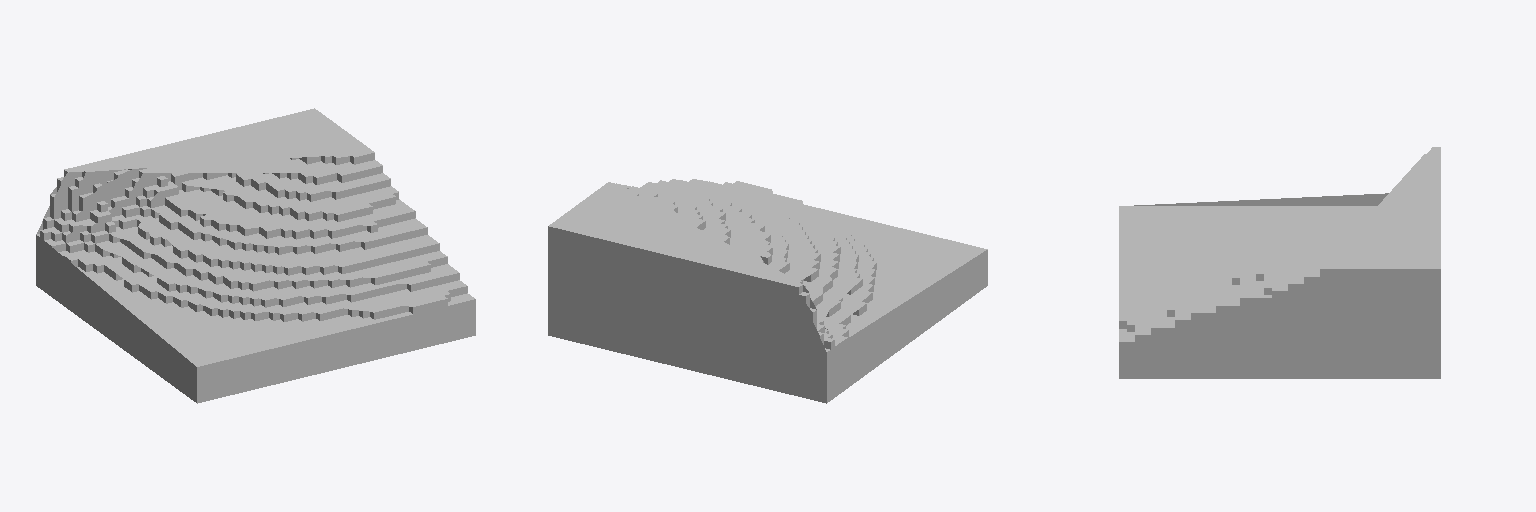
The model's file is ElevCurvePE.obj.
3 renders of one model, left to right at view 1: azimuth 30°, elevation 25°; view 2: azimuth 150°, elevation 25°; view 3: azimuth 270°, elevation 25°, orthographic.
Parts seen in each view (by area): view 1: Untitled; view 2: Untitled; view 3: Untitled.
Part boxes in pixels (bbox=[...]): Untitled: bbox=[36, 108, 475, 403]; Untitled: bbox=[548, 179, 987, 403]; Untitled: bbox=[1119, 147, 1440, 378].
Bounding box in the file's own units: 4 × 1.5 × 4.